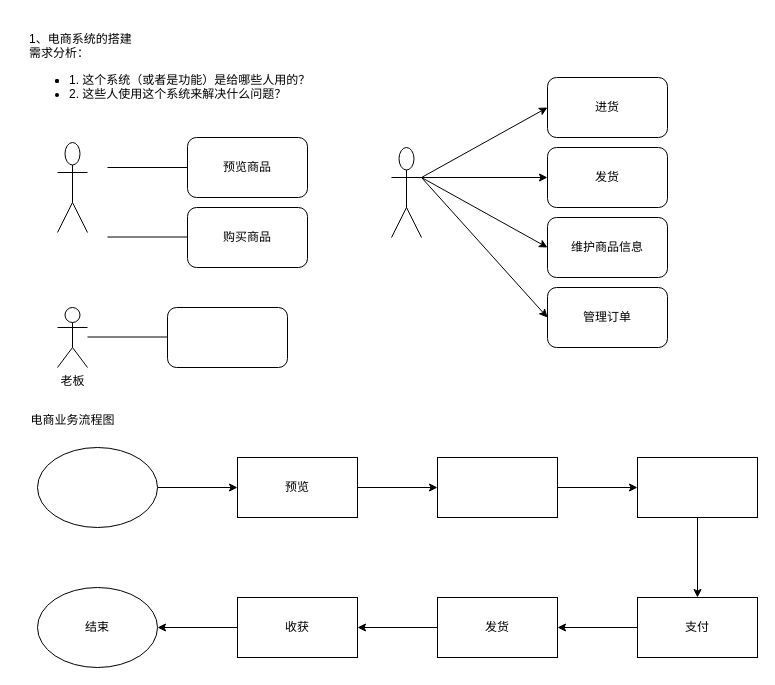
The diagram is 775 pixels wide and 685 high, and some of its shapes have lost their labels. The shapes that lost their labels are listed below. From the top down, each one's centre as x and y in pixels, then its label:
At point 72,187: "用户".
At point 406,192: "运营".
At point 227,337: "看报表".
At point 97,487: "开始".
At point 497,487: "加购".
At point 697,487: "下单".
